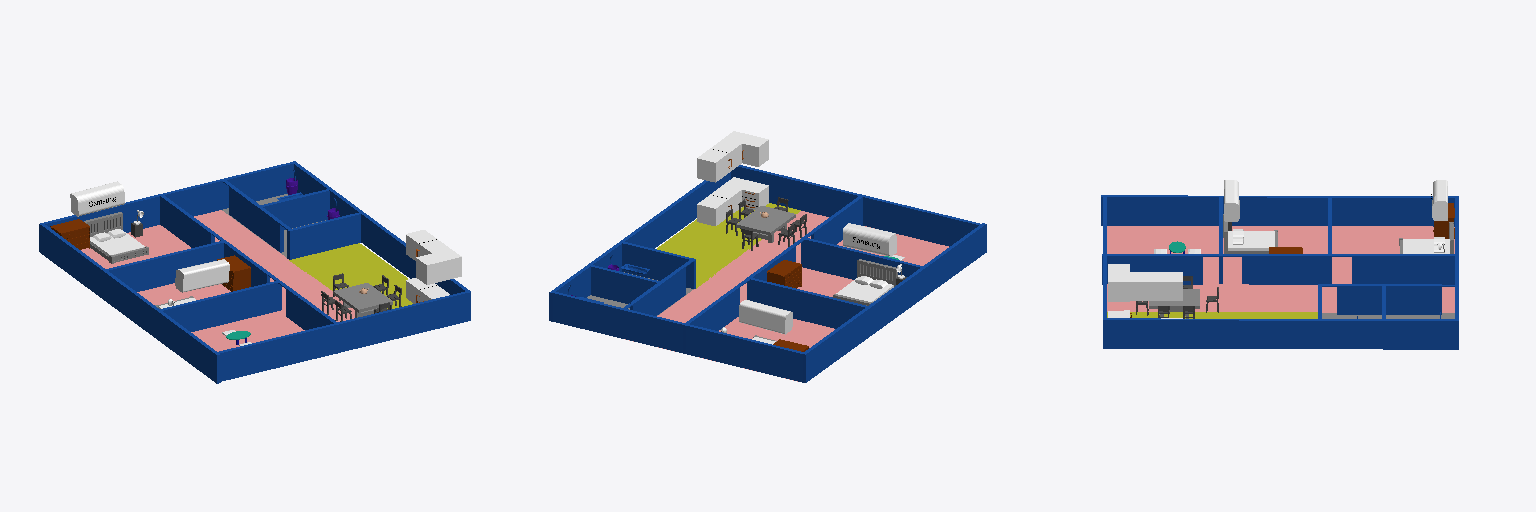
The model's file is tipeb5.obj.
3 views of the same model, side by side, from view 1: azimuth 30°, elevation 25°; view 2: azimuth 150°, elevation 25°; view 3: azimuth 270°, elevation 25° (orthographic).
Parts seen in each view (by area): view 1: Plane001, Box298, Box299, Box295, Plane006, Box296, Box300, Box303, Box374, Box302, Box305, Box160 (+8 smaller); view 2: Box295, Plane001, Box299, Box298, Box300, Plane006, Box303, Box296, Box374, Box302, Box305, Rectangle001 (+10 smaller); view 3: Plane001, Box300, Box299, Box305, Box304, Box297, Box377, Box301, Plane006, Box160, Box158, Box094 (+7 smaller).
Part boxes in pixels (left/top/right/bottom): Plane001: left=81, top=210, right=354, bottom=351; Box298: left=215, top=291, right=470, bottom=381; Box299: left=39, top=223, right=220, bottom=383; Box295: left=42, top=162, right=295, bottom=232; Plane006: left=289, top=243, right=412, bottom=308; Box296: left=159, top=280, right=281, bottom=331; Box300: left=292, top=161, right=469, bottom=294; Box303: left=105, top=240, right=225, bottom=291; Box374: left=287, top=212, right=360, bottom=259; Box302: left=259, top=189, right=329, bottom=229; Box305: left=158, top=194, right=214, bottom=247; Box160: left=416, top=249, right=461, bottom=284; Box295: left=550, top=291, right=805, bottom=382; Plane001: left=625, top=211, right=948, bottom=381; Box299: left=802, top=223, right=986, bottom=382; Box298: left=731, top=165, right=980, bottom=246; Box300: left=549, top=172, right=730, bottom=321; Plane006: left=657, top=203, right=800, bottom=288; Box303: left=747, top=277, right=868, bottom=328; Box296: left=801, top=237, right=922, bottom=279; Box374: left=622, top=242, right=695, bottom=288; Box302: left=591, top=265, right=659, bottom=303; Box305: left=683, top=286, right=739, bottom=353; Rectangle001: left=739, top=300, right=792, bottom=334; Plane001: left=1107, top=226, right=1454, bottom=312; Box300: left=1105, top=318, right=1458, bottom=349; Box299: left=1101, top=195, right=1458, bottom=226; Box305: left=1352, top=254, right=1458, bottom=284; Box304: left=1242, top=254, right=1331, bottom=284; Box297: left=1102, top=254, right=1202, bottom=284; Box377: left=1383, top=284, right=1441, bottom=314; Box301: left=1337, top=284, right=1382, bottom=314; Plane006: left=1107, top=312, right=1317, bottom=318; Box160: left=1108, top=264, right=1129, bottom=301; Box158: left=1156, top=272, right=1182, bottom=300; Box094: left=1228, top=231, right=1274, bottom=250.
Size of the model in its own units: 875 by 215 by 1056.